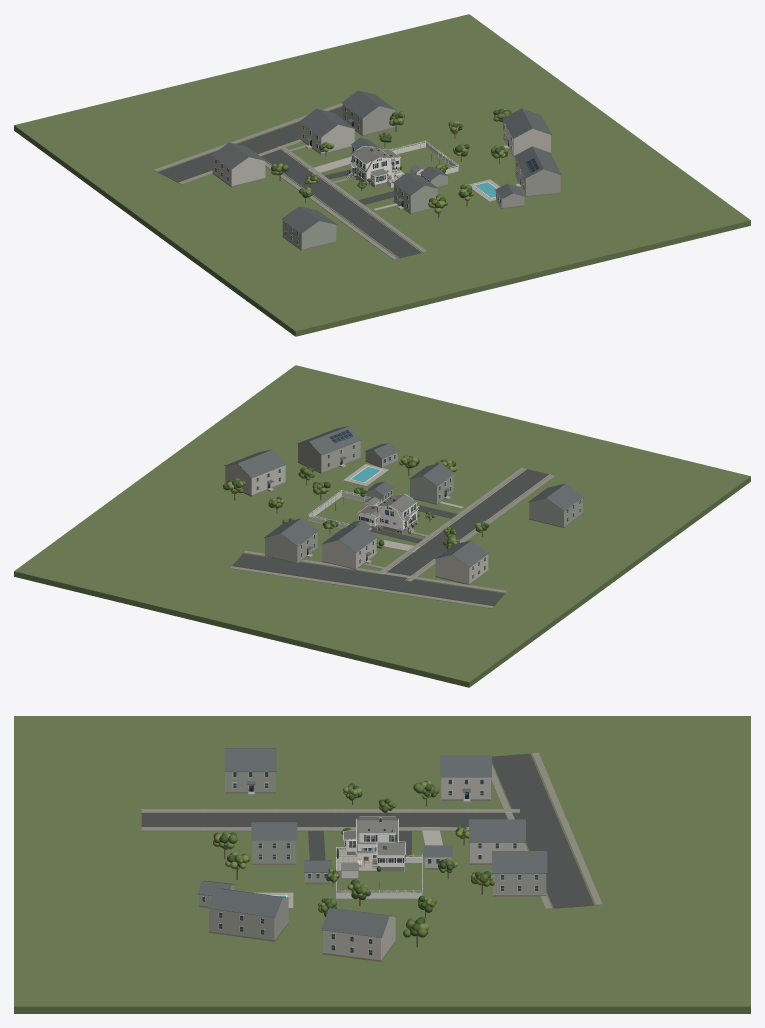
The picture shows the model from 3 angles, top to bottom: view 1: azimuth 30°, elevation 25°; view 2: azimuth 150°, elevation 25°; view 3: azimuth 270°, elevation 25°; orthographic projection. The views are drawn at different scales.
Parts seen in each view (by area): view 1: Exterior/Neighborhood ground.001, Exterior/140 context roof.002, Exterior/Fernwood road.001, Exterior/front foundation/rendered concrete.004, Exterior/140 context walls.001, Exterior/134 context walls.001, Exterior/16 context walls.001, Exterior/front dormer/eave/fascia.001, Exterior/Aerial tree 1/leaf cluster-0.001, Exterior/Aerial tree 1/leaf cluster-1.001, Exterior/Aerial tree 1/leaf cluster-2.001, Exterior/gambrel/segment-0-0.001 (+4 smaller); view 2: Exterior/Neighborhood ground.001, Exterior/Fernwood road.001, Exterior/140 context roof.002, Exterior/front foundation/rendered concrete.004, Exterior/140 context walls.001, Exterior/134 context walls.001, Exterior/16 context walls.001, Exterior/front dormer/eave/fascia.001, Exterior/Aerial tree 1/leaf cluster-1.001, Exterior/Aerial tree 1/leaf cluster-0.001, Exterior/front dormer/cheek--7.713049583435058/clapboard-23-, Exterior/gambrel/segment-0-0.001 (+4 smaller); view 3: Exterior/Neighborhood ground.001, Exterior/Fernwood road.001, Exterior/140 context roof.002, Exterior/front foundation/rendered concrete.004, Exterior/140 context walls.001, Exterior/134 context walls.001, Exterior/front dormer/eave/fascia.001, Exterior/16 context walls.001, Exterior/Aerial tree 1/leaf cluster-1.001, Exterior/Aerial tree 1/leaf cluster-0.001, Exterior/gambrel/segment-0-0.001, Exterior/driveway gable/upper window 0/glazing.001 (+4 smaller).
Boxes of the visible parts, x1,y1,x2,y2 form: Exterior/Neighborhood ground.001: (14,14,750,336); Exterior/140 context roof.002: (211,90,561,233); Exterior/Fernwood road.001: (158,106,421,258); Exterior/front foundation/rendered concrete.004: (154,103,560,259); Exterior/140 context walls.001: (212,121,550,185); Exterior/134 context walls.001: (342,104,560,207); Exterior/16 context walls.001: (282,174,447,249); Exterior/front dormer/eave/fascia.001: (215,107,524,244); Exterior/Aerial tree 1/leaf cluster-0.001: (271,109,511,208); Exterior/Aerial tree 1/leaf cluster-1.001: (271,111,510,208); Exterior/Aerial tree 1/leaf cluster-2.001: (271,108,509,213); Exterior/gambrel/segment-0-0.001: (350,146,424,176); Exterior/Neighborhood ground.001: (14,365,750,687); Exterior/Fernwood road.001: (232,469,548,605); Exterior/140 context roof.002: (224,426,583,567); Exterior/front foundation/rendered concrete.004: (230,457,583,608); Exterior/140 context walls.001: (225,463,488,583); Exterior/134 context walls.001: (265,440,397,562); Exterior/16 context walls.001: (366,474,582,526); Exterior/front dormer/eave/fascia.001: (256,444,580,578); Exterior/Aerial tree 1/leaf cluster-1.001: (223,455,486,549); Exterior/Aerial tree 1/leaf cluster-0.001: (223,456,489,547); Exterior/front dormer/cheek--7.713049583435058/clapboard-23-: (358,501,416,530); Exterior/gambrel/segment-0-0.001: (358,494,418,520); Exterior/Neighborhood ground.001: (14,716,750,1013); Exterior/Fernwood road.001: (141,753,594,908); Exterior/140 context roof.002: (197,748,547,937); Exterior/front foundation/rendered concrete.004: (141,752,602,961); Exterior/140 context walls.001: (323,777,524,959); Exterior/134 context walls.001: (199,873,546,939); Exterior/front dormer/eave/fascia.001: (202,771,538,955); Exterior/16 context walls.001: (226,771,330,882); Exterior/Aerial tree 1/leaf cluster-1.001: (219,782,494,937); Exterior/Aerial tree 1/leaf cluster-0.001: (213,780,491,936); Exterior/gambrel/segment-0-0.001: (341,817,404,870); Exterior/driveway gable/upper window 0/glazing.001: (202,772,538,955).
Size of the model in its own units: 140 by 9.85 by 150.
